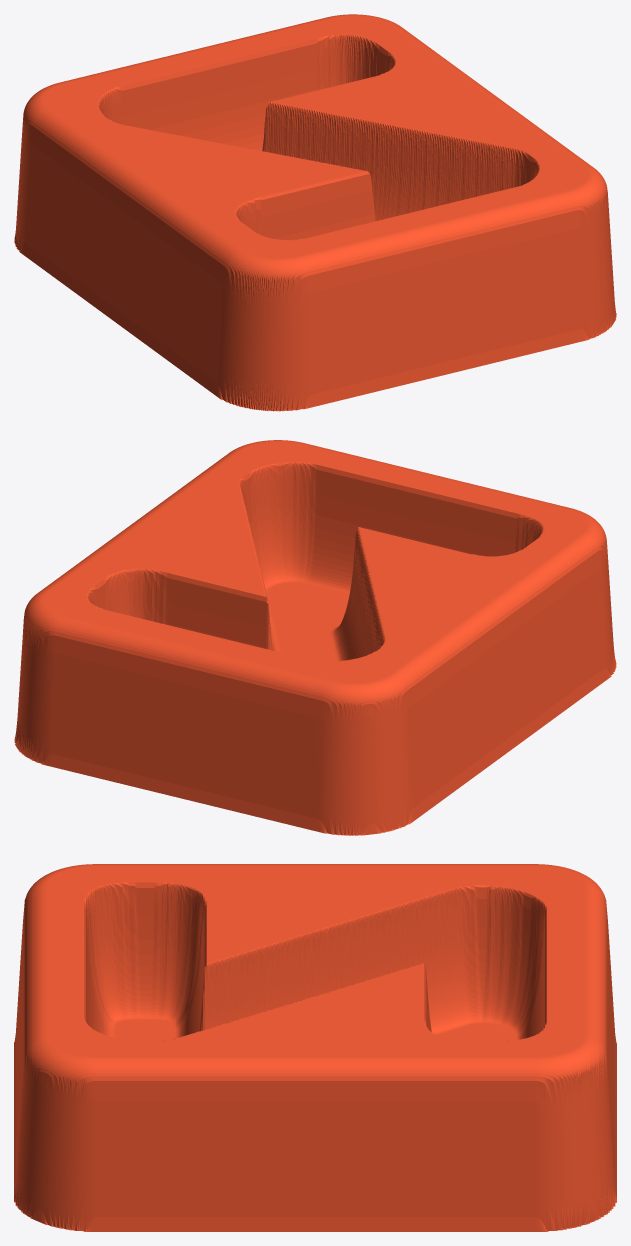
Rendered from mold.glb.
3 views of the same model, one above another, from view 1: azimuth 30°, elevation 25°; view 2: azimuth 150°, elevation 25°; view 3: azimuth 270°, elevation 25° (orthographic). The views are drawn at different scales.
Parts seen in each view (by area): view 1: geometry_0; view 2: geometry_0; view 3: geometry_0.
Boxes of the visible parts, x1,y1,x2,y2 form: geometry_0: (14, 14, 616, 411); geometry_0: (14, 440, 616, 835); geometry_0: (14, 864, 616, 1231).
Bounding box in the file's own units: 0.0574 × 0.0197 × 0.067.
